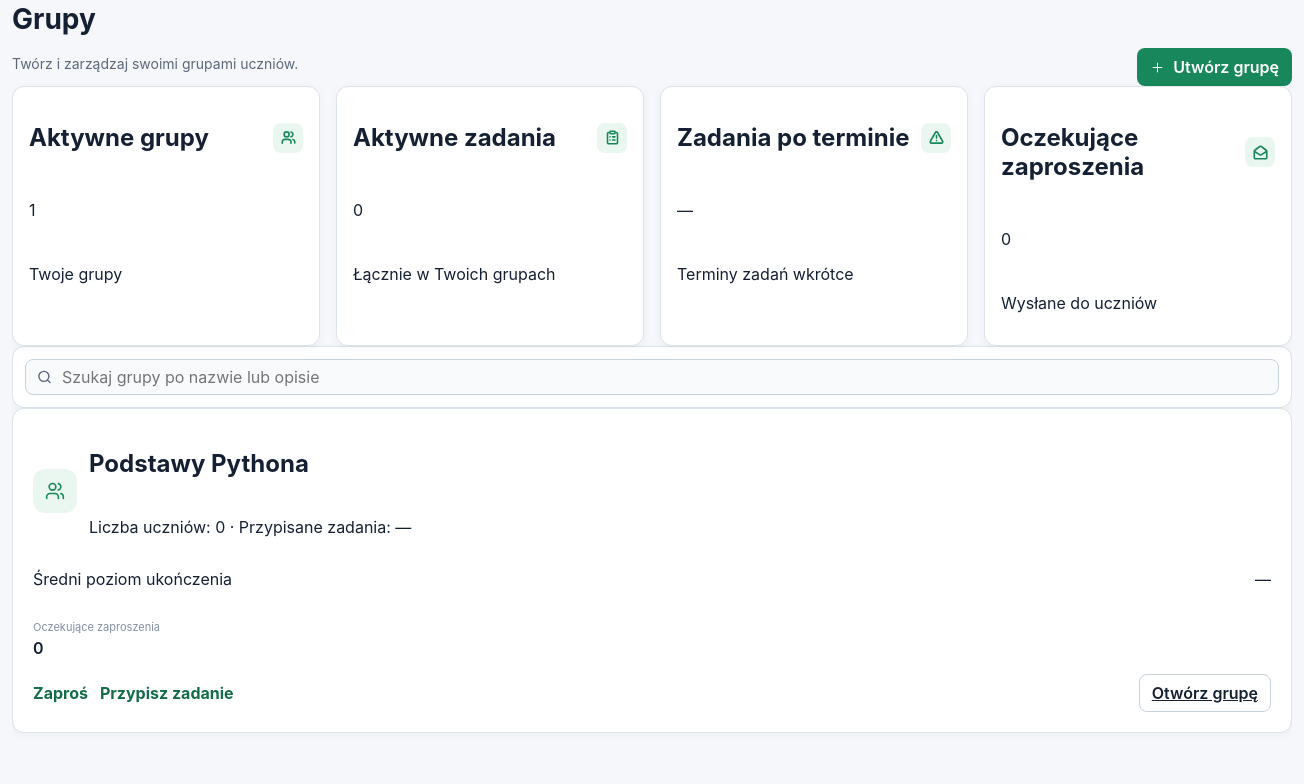
Test case: opens a group by clicking its name
Click the link "Podstawy Pythona" at (199,463), box left=89, top=449, right=309, bottom=478
(page scrolled)
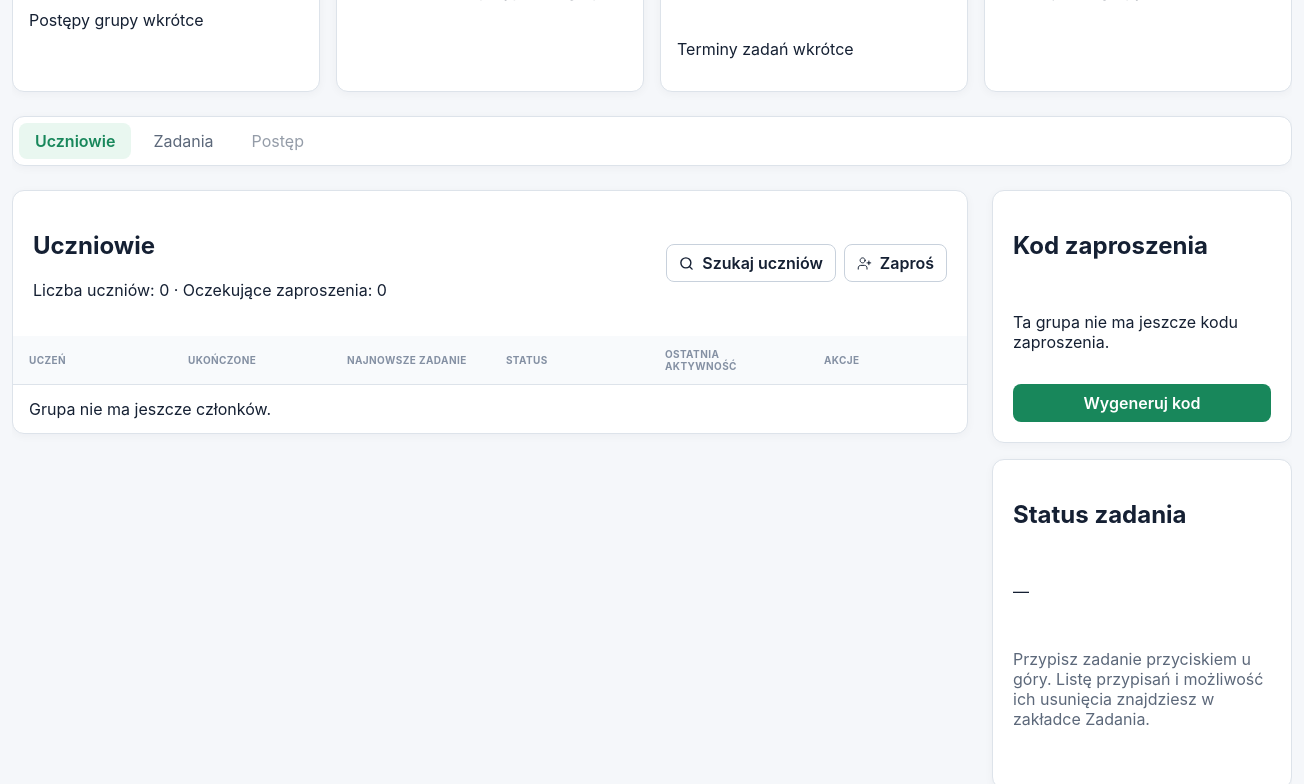
Expected: the table named "Uczniowie grupy" is shown, left=13, top=336, right=967, bottom=433
